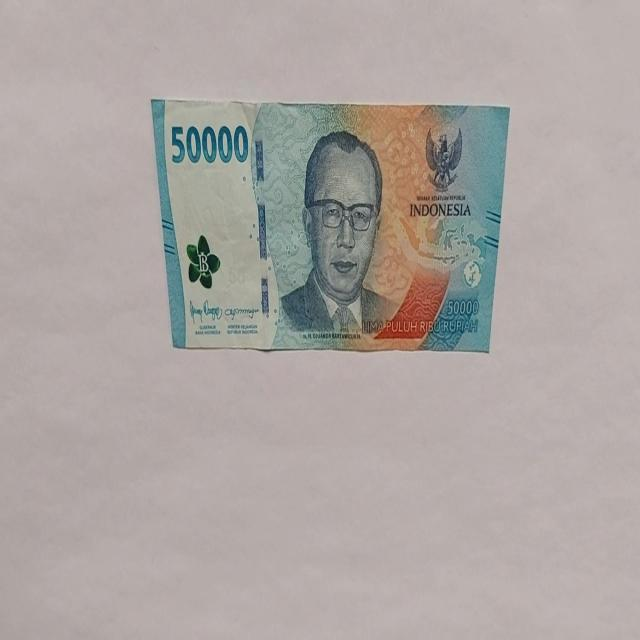lima puluh ribu rupiah: (150, 97, 510, 354), (278, 128, 398, 338)
